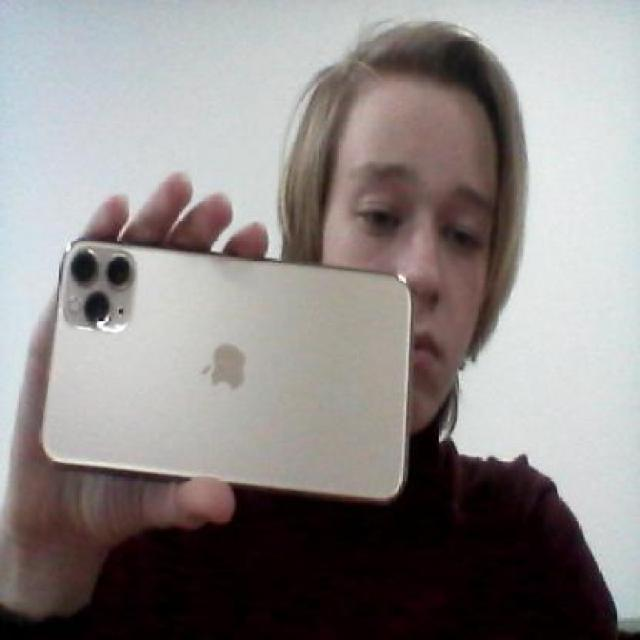mobile: (29, 222, 428, 526)
